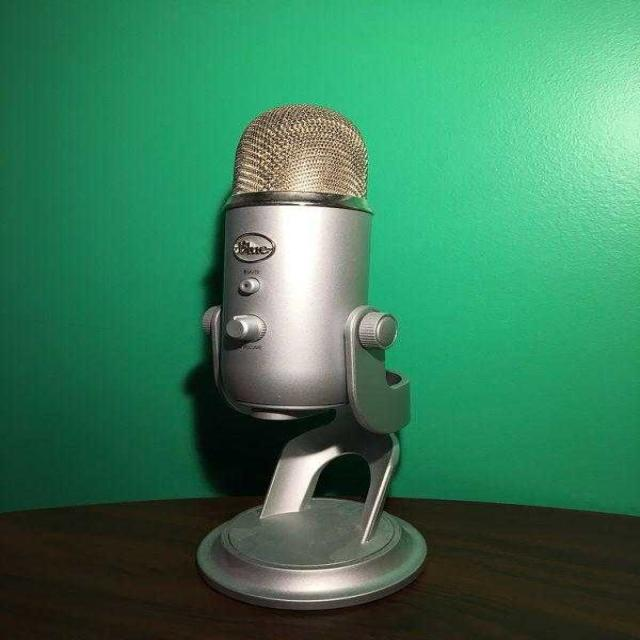microphone: (214, 101, 388, 418)
